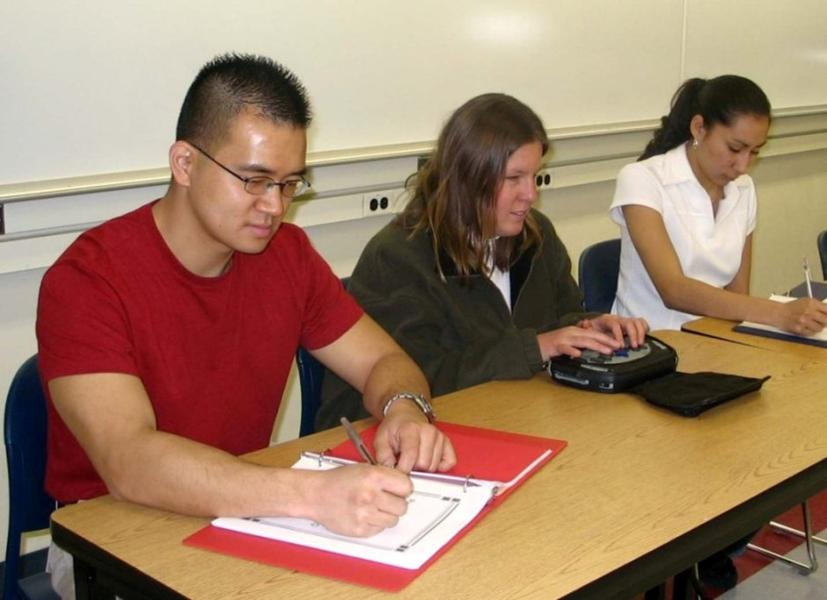person: (36, 54, 457, 537)
